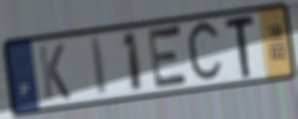1: (121, 29, 147, 94)
C: (185, 17, 226, 88)
E: (146, 23, 191, 92)
I: (89, 34, 110, 99)
K: (37, 42, 73, 102)
T: (224, 12, 258, 82)
